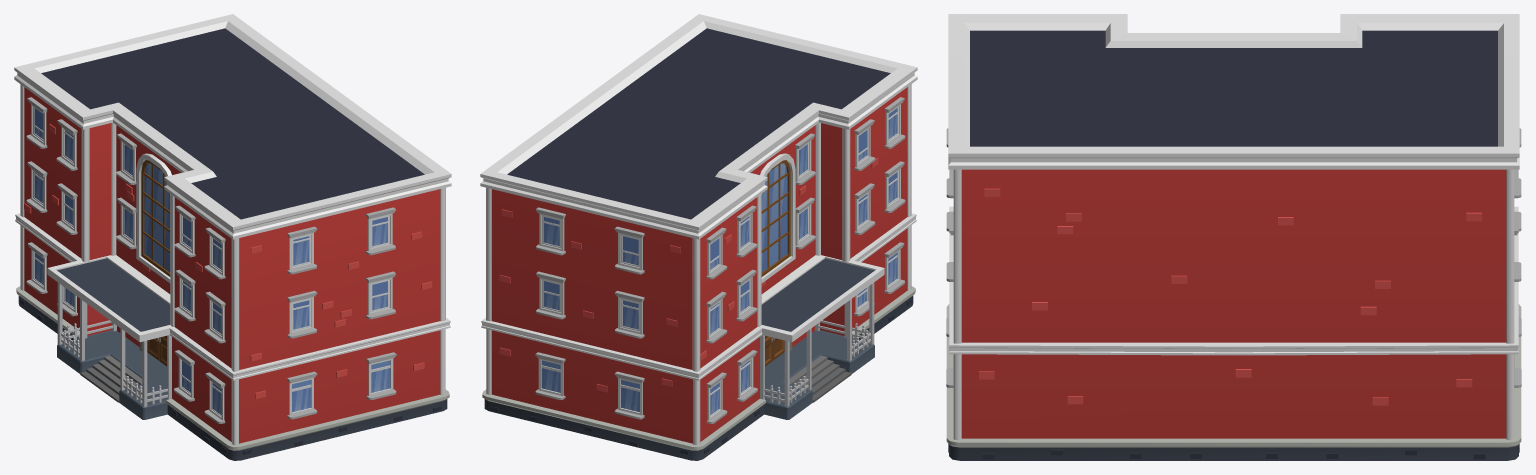
Rendered from Building_5_2_C.glb.
3 views of the same model, side by side, from view 1: azimuth 30°, elevation 25°; view 2: azimuth 150°, elevation 25°; view 3: azimuth 270°, elevation 25° (orthographic). The views are drawn at different scales.
Parts seen in each view (by area): view 1: Building_5_2_C; view 2: Building_5_2_C; view 3: Building_5_2_C.
Part boxes in pixels (x1,y1,x2,y2): Building_5_2_C: (14,14,451,460); Building_5_2_C: (480,14,917,460); Building_5_2_C: (946,14,1521,460).
Bounding box in the file's own units: 12.51 × 11.26 × 19.08.
3 materials, 3 textured.
